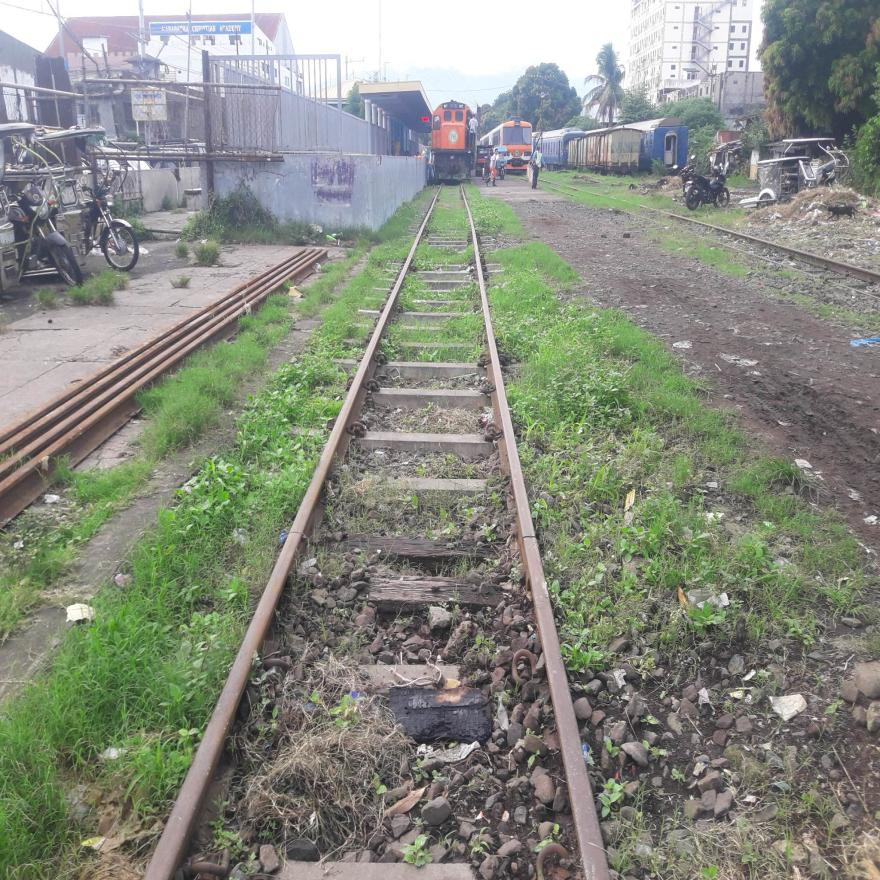railway-gap: (272, 500, 320, 569), (512, 514, 550, 562)
